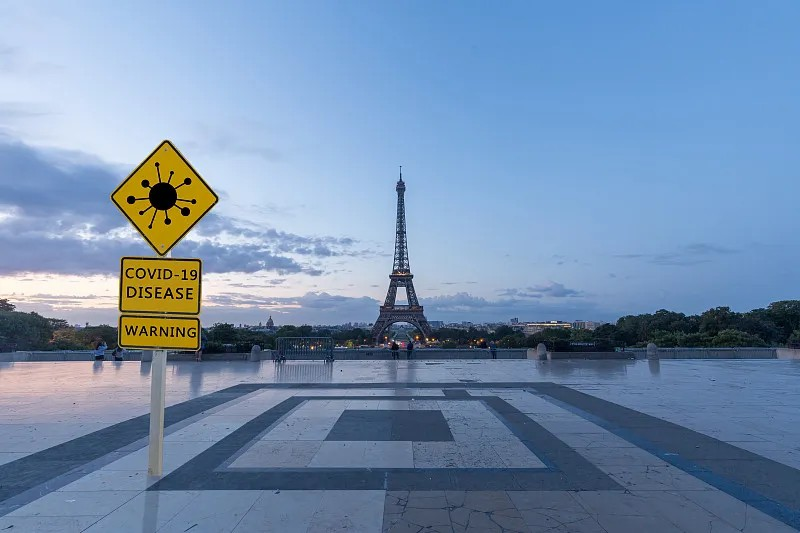Eiffel: (368, 165, 435, 346)
